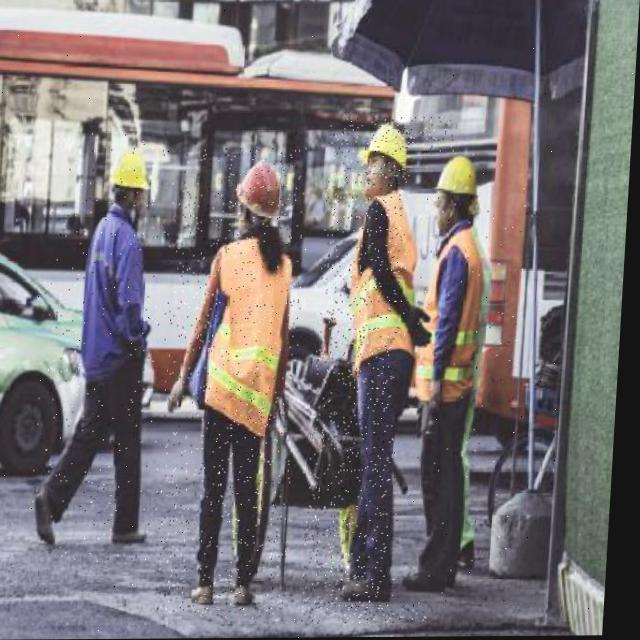Helmet: (237, 161, 285, 218), (361, 125, 411, 171), (436, 156, 481, 196), (112, 149, 154, 190)
No-Glove: (406, 307, 438, 346)
Safety-Vest: (194, 236, 299, 438), (349, 193, 425, 368), (416, 223, 490, 402)
